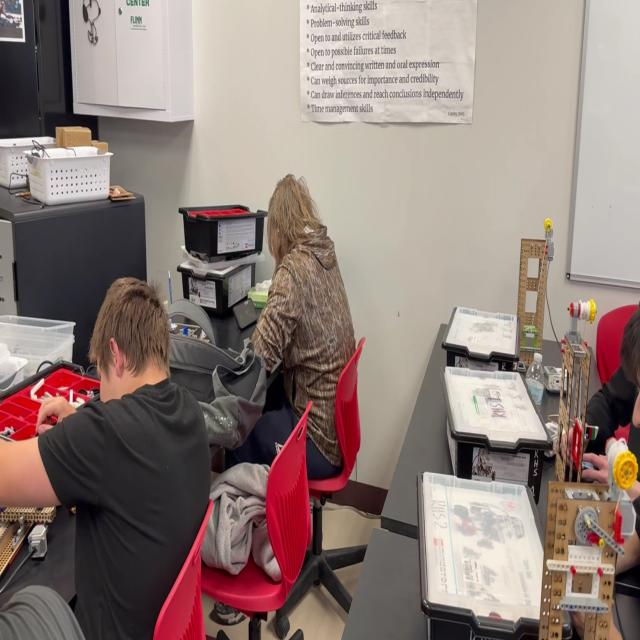pen: (232, 297, 258, 331)
